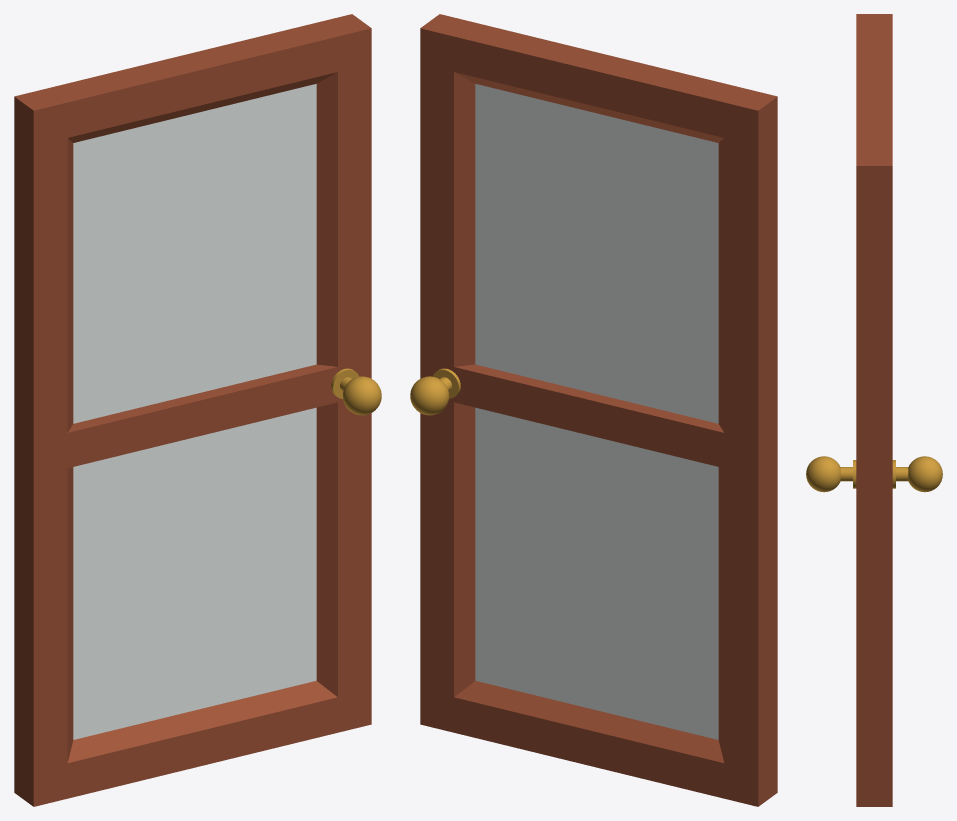
Rendered from Door.FBX.
3 views of the same model, side by side, from view 1: azimuth 30°, elevation 25°; view 2: azimuth 150°, elevation 25°; view 3: azimuth 270°, elevation 25° (orthographic). The views are drawn at different scales.
Parts seen in each view (by area): view 1: Door; view 2: Door; view 3: Door.
Part boxes in pixels (<box>): Door: <box>14,14,381,806</box>; Door: <box>410,14,777,806</box>; Door: <box>806,14,942,806</box>.
Bounding box in the file's own units: 49.9 × 98.21 × 19.
